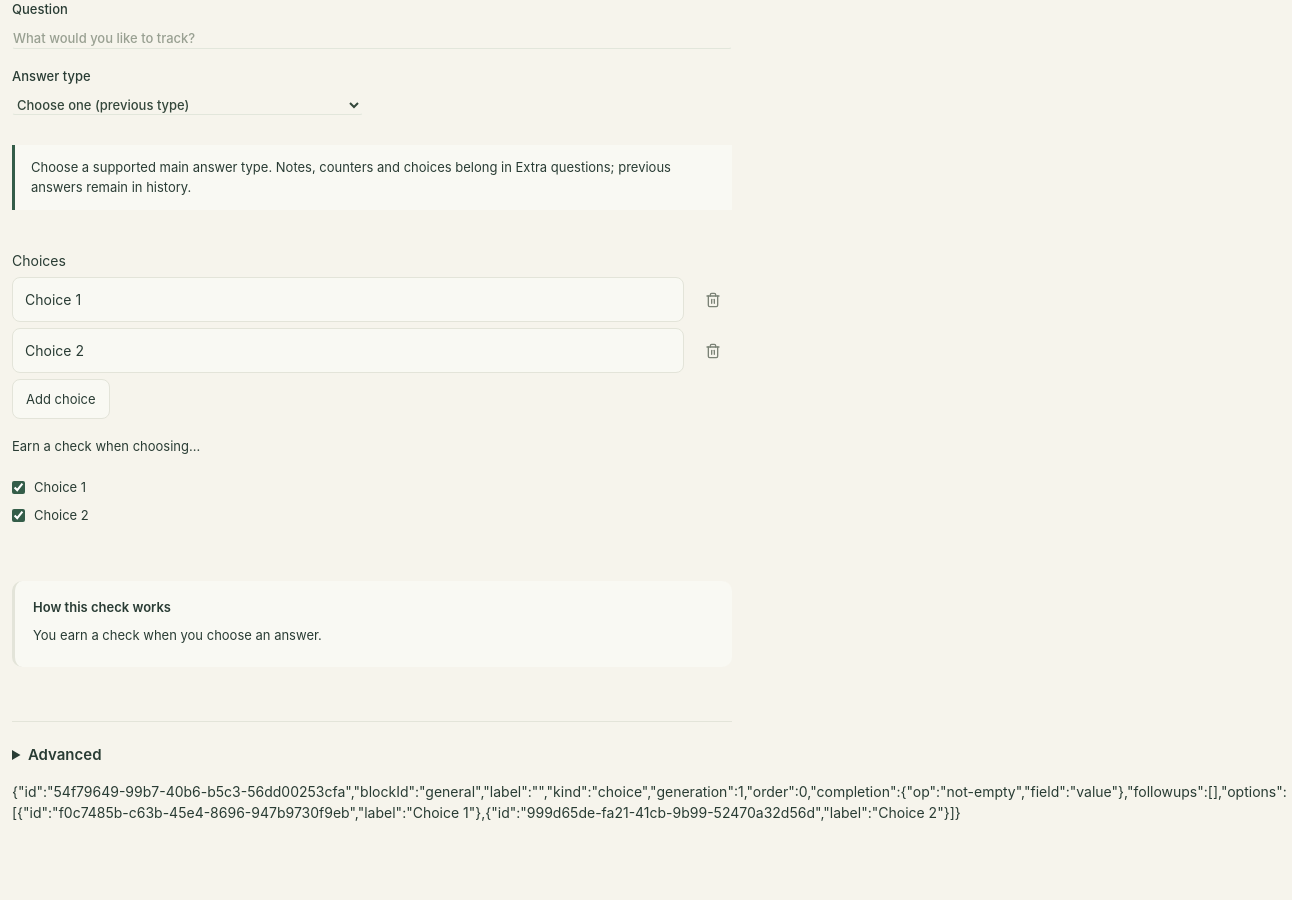
Scenario: new extra question on choice › uses a meaningful default visibility and expands only the active extra question
The image size is (1292, 900).
Click the heading "Advanced" at (65, 755), box [28, 746, 102, 764]
(page scrolled)
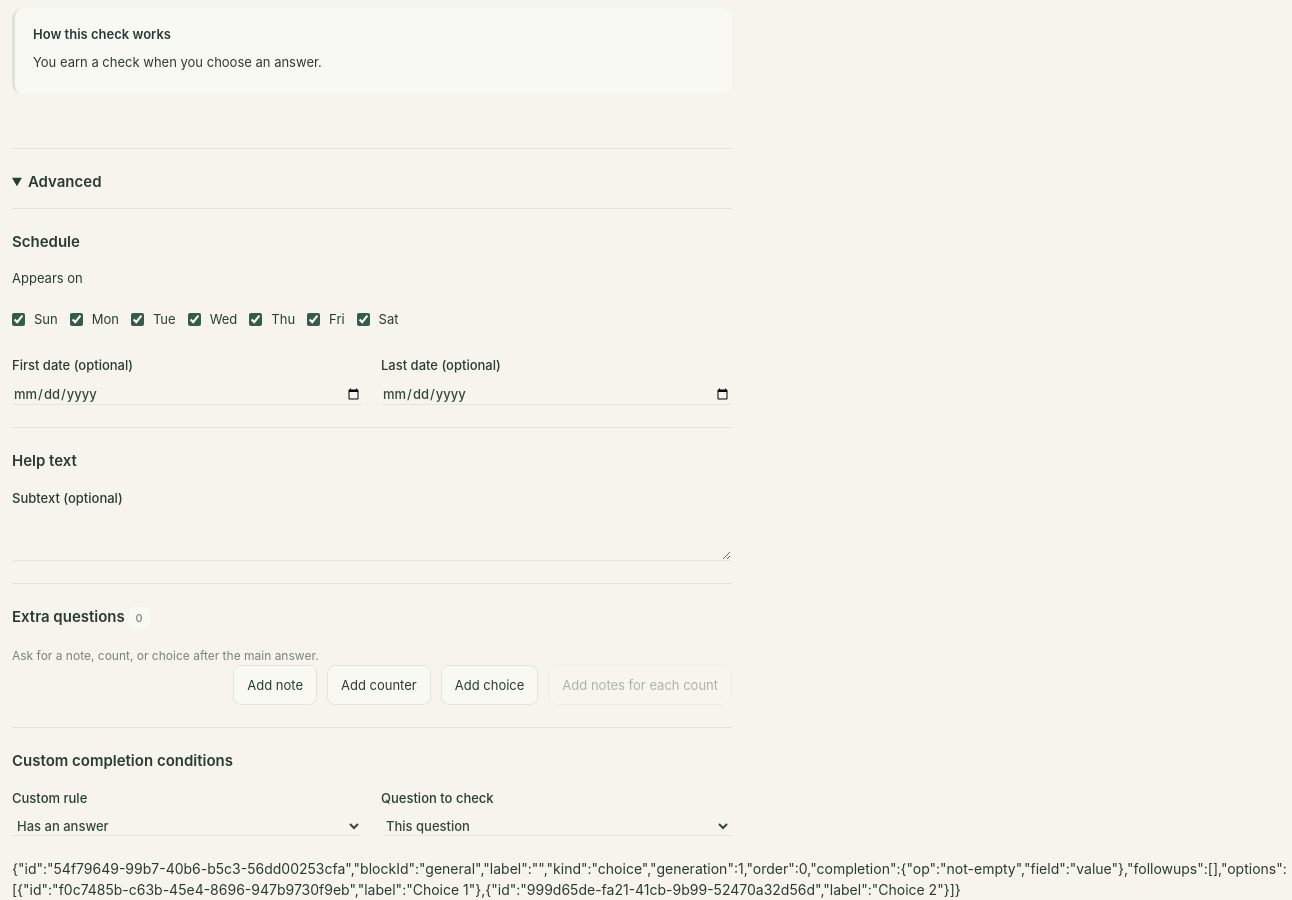
Click the button "Add note" at (275, 685), box [233, 665, 317, 705]
(page scrolled)
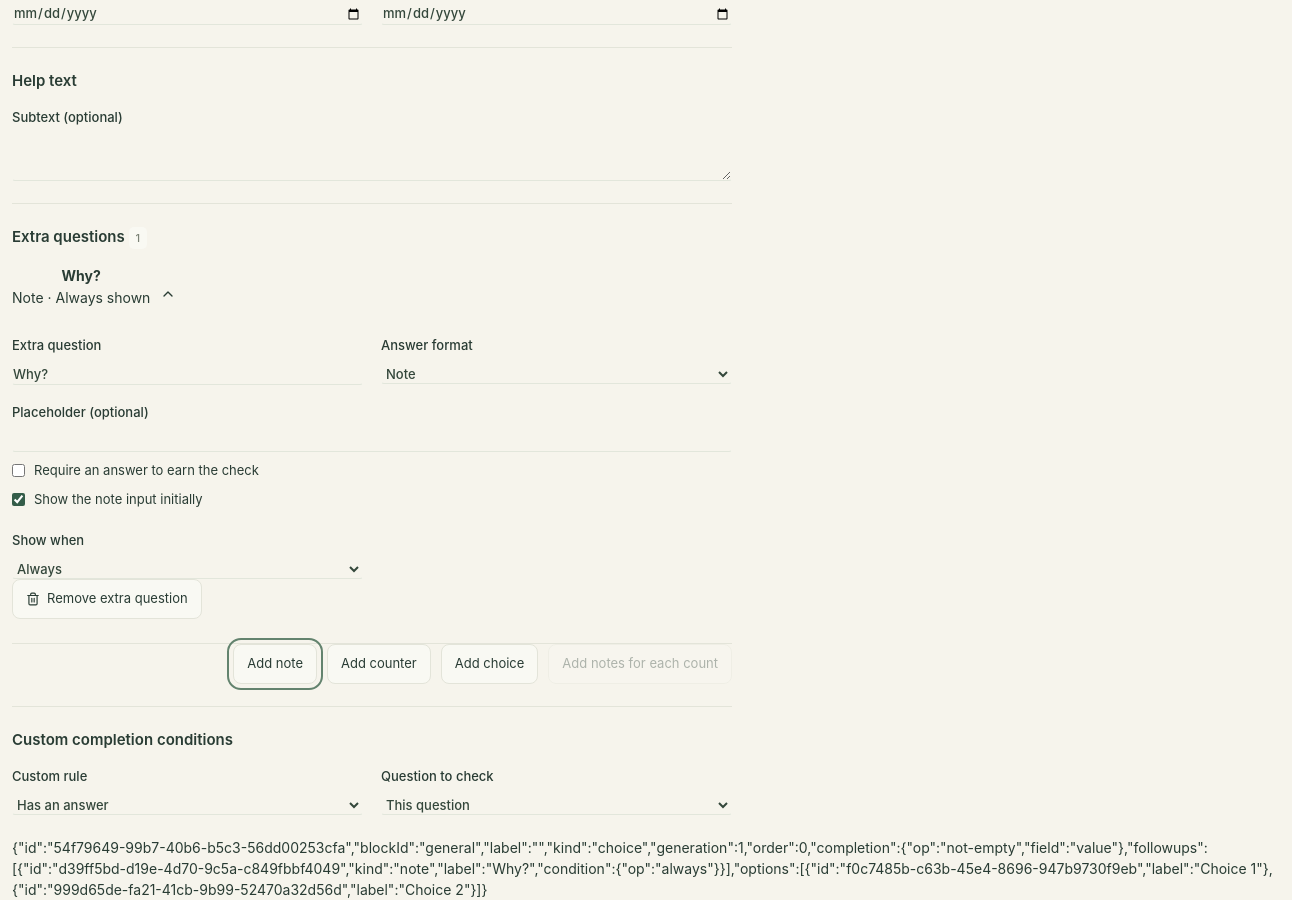
Click the button "Add counter" at (379, 664), box [327, 644, 431, 684]
(page scrolled)
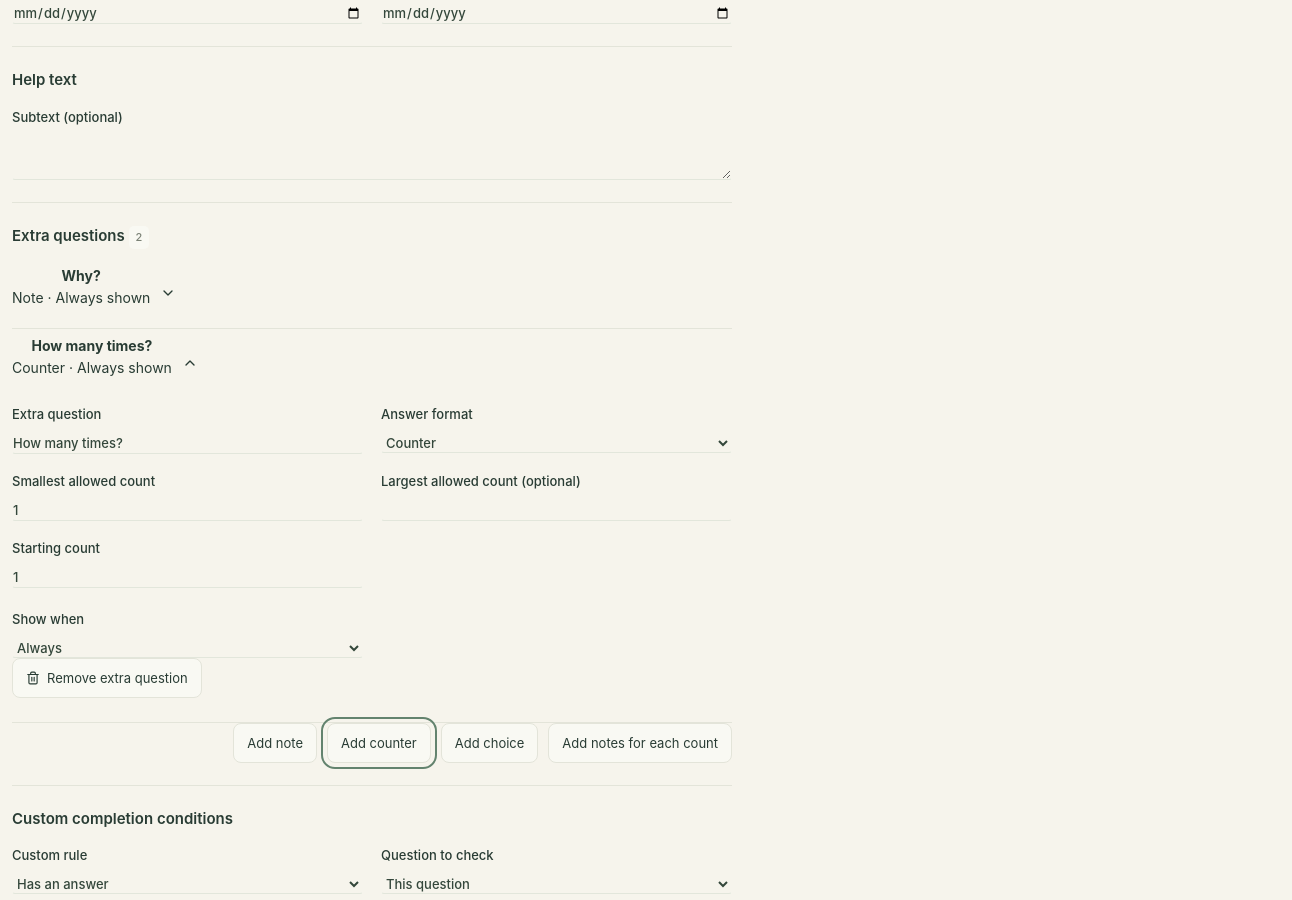
Check: the number of fields labelled "Extra question" is 1, box [12, 433, 363, 454]
Check: the field labelled "Extra question" holds "How many times?", box [12, 433, 363, 454]
